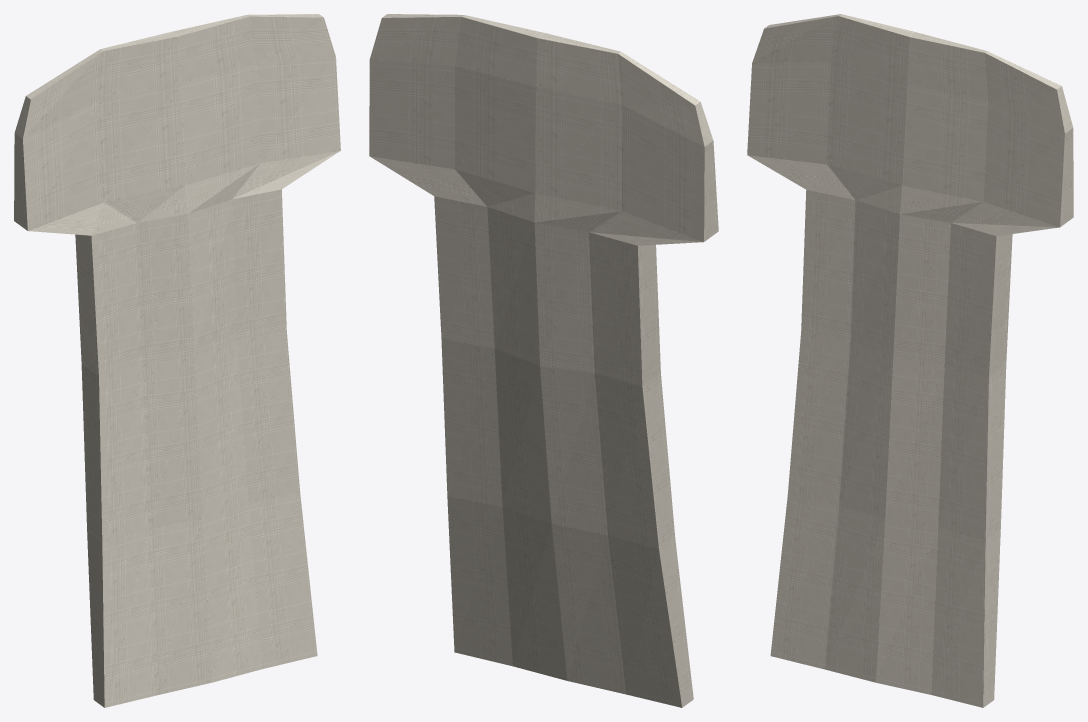
Rendered from SM_MourningRobe_Line.glb.
3 renders of one model, left to right at view 1: azimuth 30°, elevation 25°; view 2: azimuth 150°, elevation 25°; view 3: azimuth 330°, elevation 25°, orthographic. The views are drawn at different scales.
Parts seen in each view (by area): view 1: SM_MourningRobe_Line; view 2: SM_MourningRobe_Line; view 3: SM_MourningRobe_Line.
Part boxes in pixels (left/top/right/bottom): SM_MourningRobe_Line: left=14, top=14, right=340, bottom=707; SM_MourningRobe_Line: left=369, top=14, right=718, bottom=707; SM_MourningRobe_Line: left=747, top=14, right=1073, bottom=707.
Bounding box in the file's own units: 0.5 × 0.9529 × 0.1198.
1 material, 1 textured.
